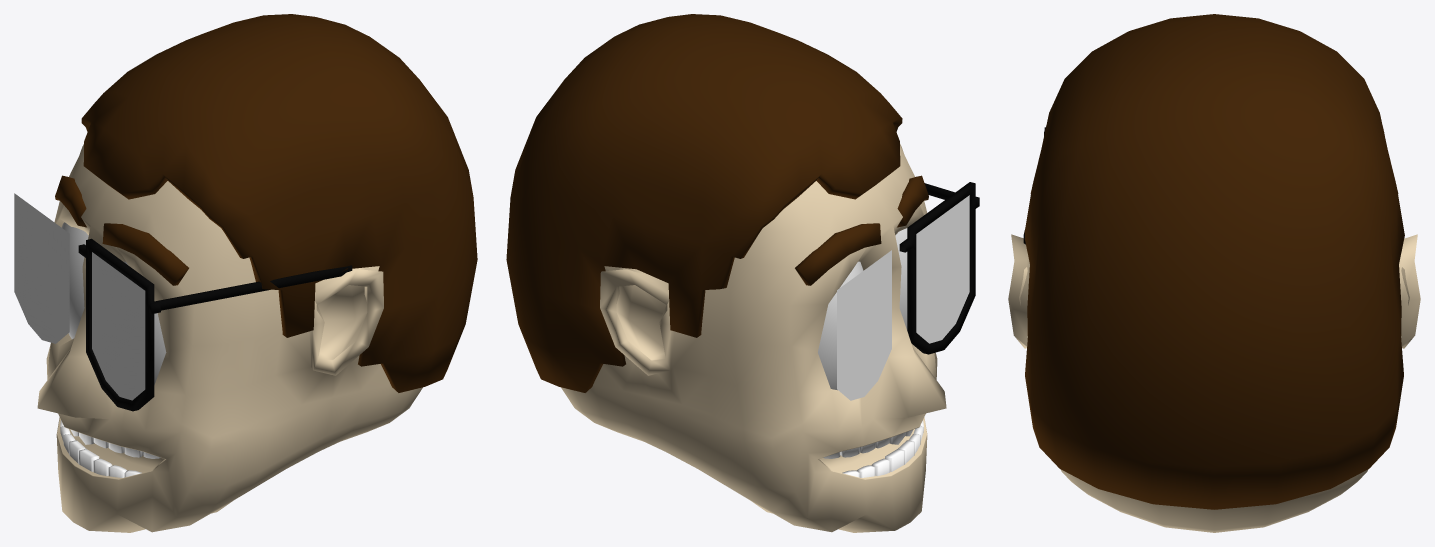
File: перс23.glb
3 renders of one model, left to right at view 1: azimuth 30°, elevation 25°; view 2: azimuth 150°, elevation 25°; view 3: azimuth 270°, elevation 25°, orthographic. The views are drawn at different scales.
Visible parts, largest first — view 1: Cube.004, Cube.003, Cube.002; view 2: Cube.004, Cube.003, Cube.002; view 3: Cube.004.
Boxes of the visible parts, <box> form: Cube.004: <box>37,14,477,532</box>; Cube.003: <box>14,193,145,400</box>; Cube.002: <box>78,238,352,411</box>; Cube.004: <box>506,14,946,532</box>; Cube.003: <box>837,195,969,400</box>; Cube.002: <box>899,182,979,354</box>; Cube.004: <box>1008,14,1420,532</box>.
Size of what is drawn, in the model's own units: 2.11 by 2.17 by 1.57.
